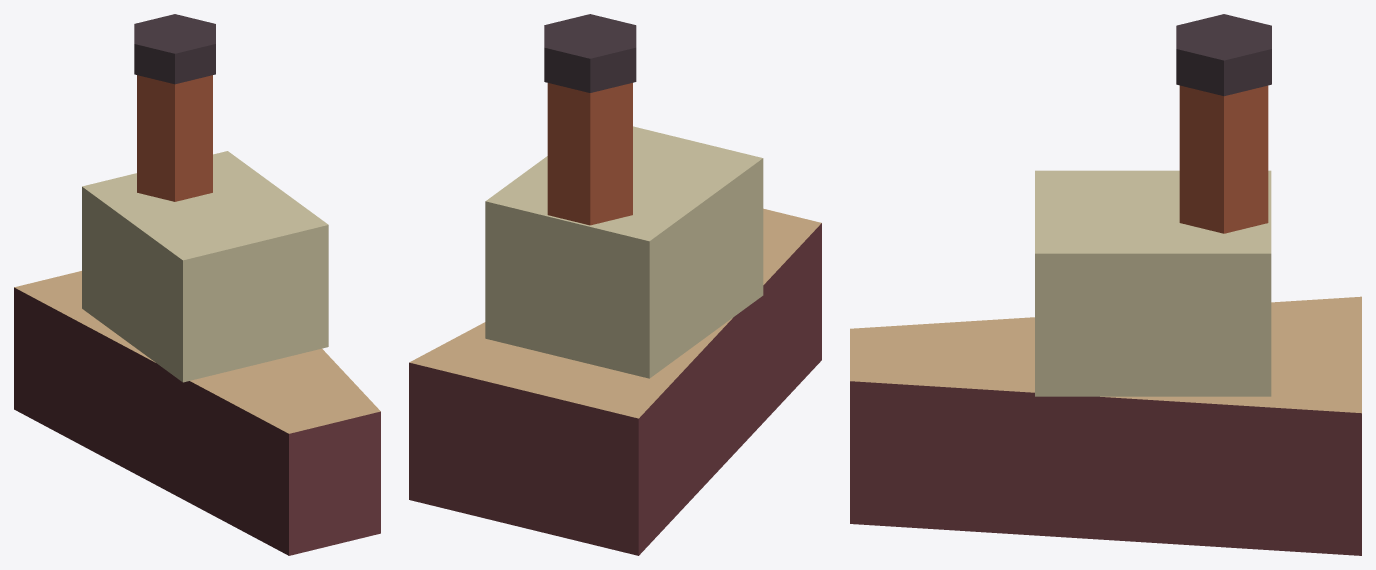
Rendered from tugboat.glb.
3 views of the same model, side by side, from view 1: azimuth 30°, elevation 25°; view 2: azimuth 150°, elevation 25°; view 3: azimuth 270°, elevation 25° (orthographic). The views are drawn at different scales.
Visible parts, largest first — view 1: Hull, Cabin, Funnel, Band; view 2: Hull, Cabin, Funnel, Band; view 3: Hull, Cabin, Funnel, Band.
Part boxes in pixels (bbox=[...]): Hull: bbox=[14, 271, 380, 555]; Cabin: bbox=[82, 151, 328, 382]; Funnel: bbox=[137, 75, 212, 201]; Band: bbox=[134, 14, 215, 84]; Hull: bbox=[409, 208, 821, 555]; Cabin: bbox=[485, 126, 763, 378]; Funnel: bbox=[547, 83, 632, 225]; Band: bbox=[544, 14, 636, 92]; Hull: bbox=[850, 296, 1361, 555]; Cabin: bbox=[1035, 170, 1271, 396]; Funnel: bbox=[1179, 85, 1268, 233]; Band: bbox=[1176, 14, 1271, 96].
Size of the model in its own units: 0.7 by 1.29 by 1.3.
